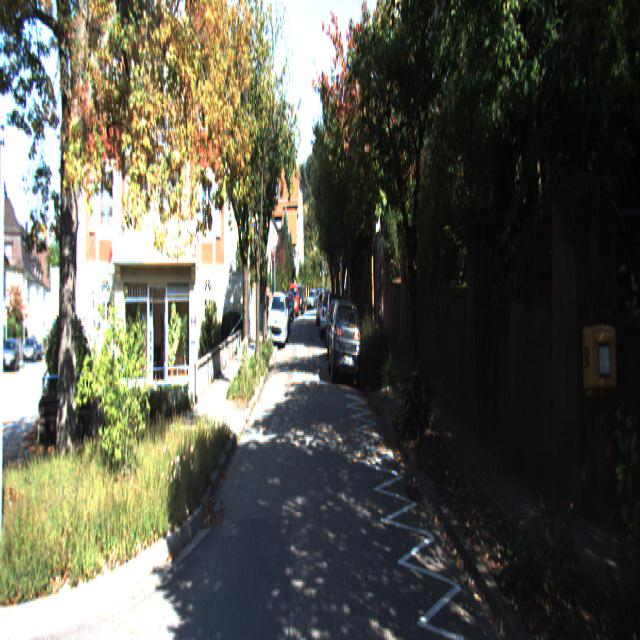Car: (326, 294, 362, 389), (267, 291, 288, 351)
